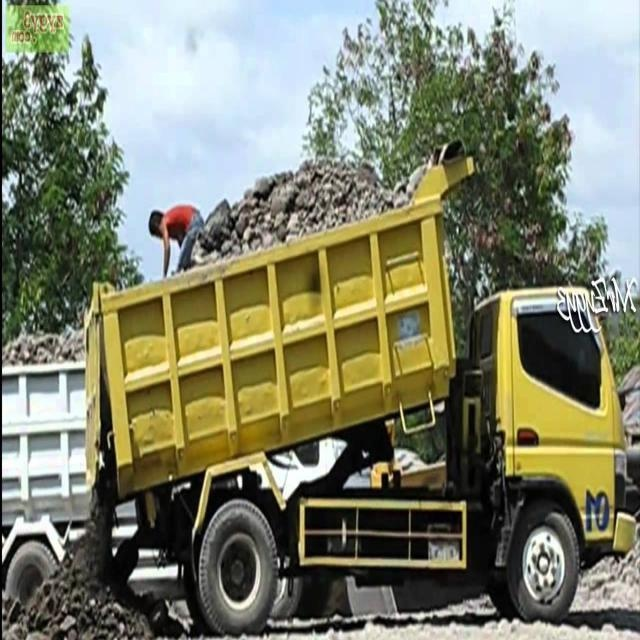Truck: (84, 143, 636, 639)
